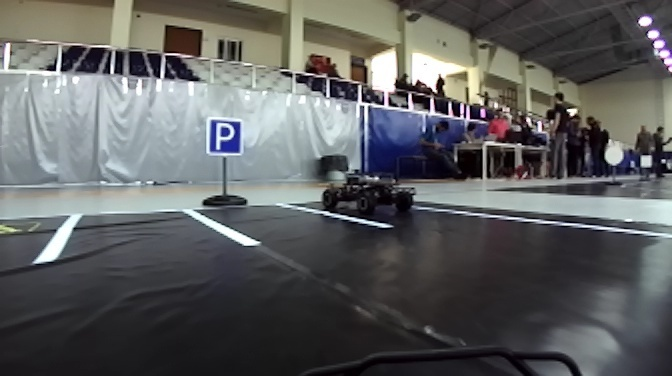park: (205, 116, 246, 158)
